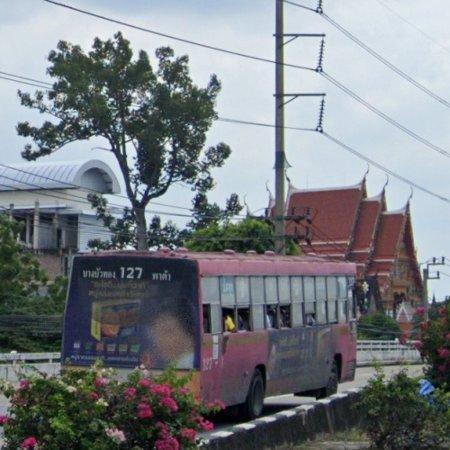buses: (63, 252, 357, 415)
